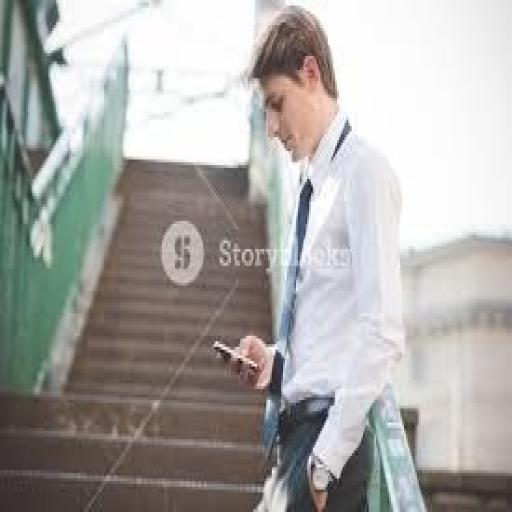texting: (212, 3, 406, 509)
